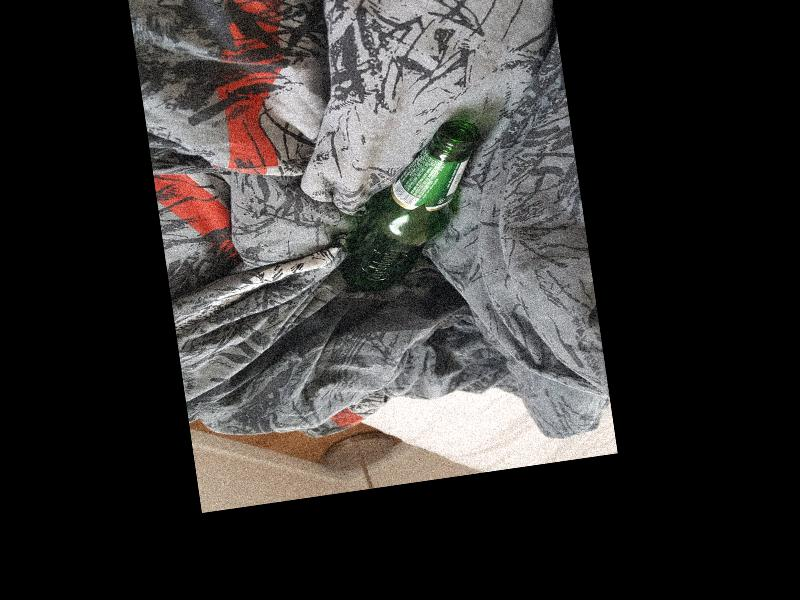Beer: (322, 115, 497, 295)
